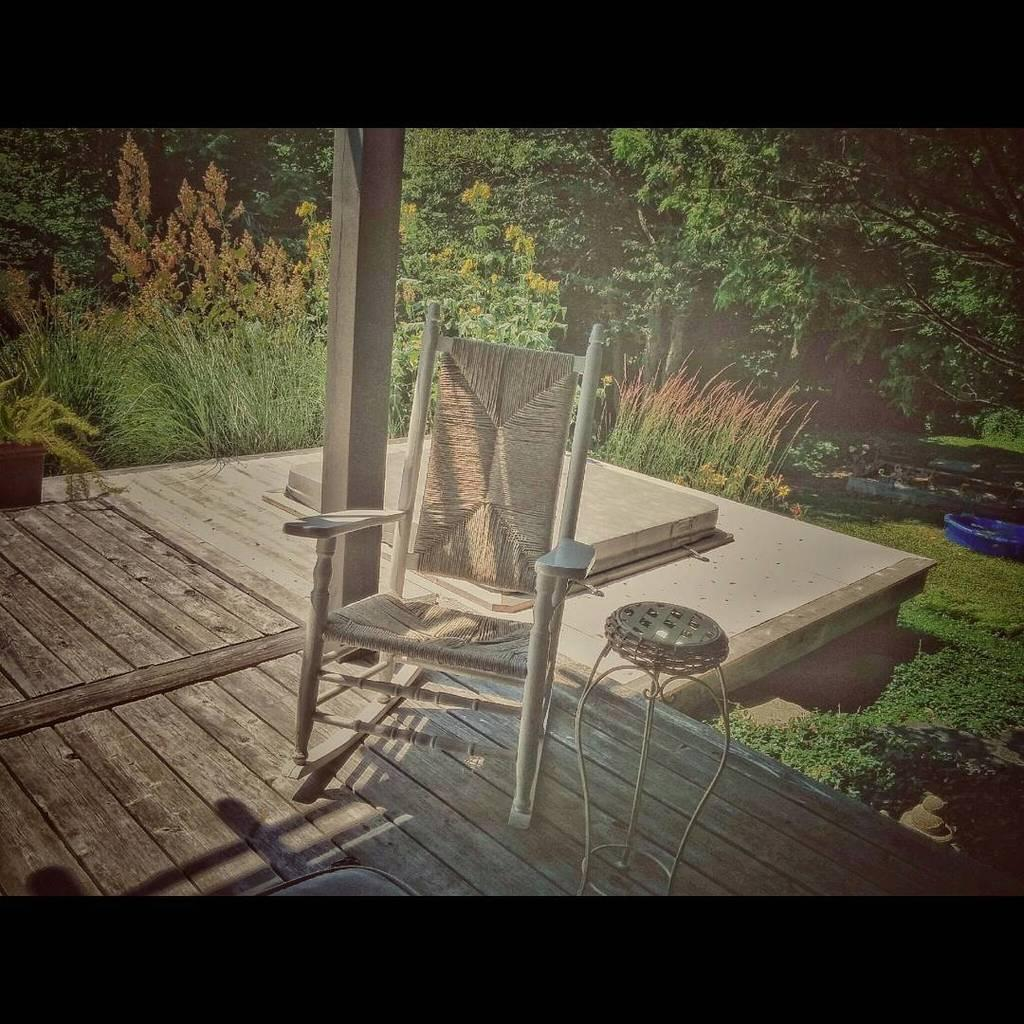Chair: (257, 302, 702, 807)
